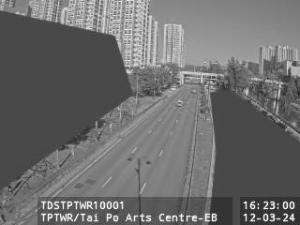bus: (171, 84, 177, 90)
vehicle: (176, 100, 184, 107), (192, 88, 196, 94)
